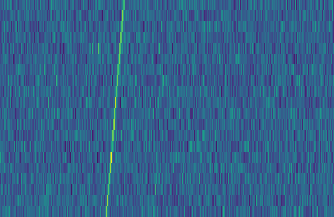signal: (100, 0, 128, 217)
